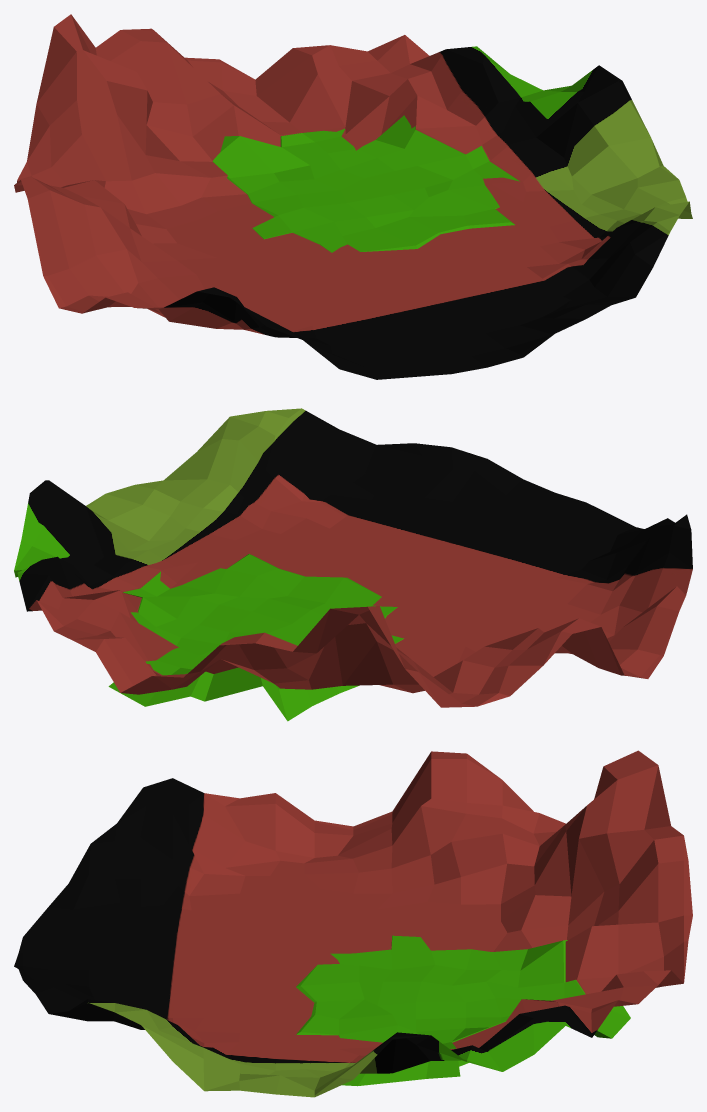
The model's file is Mars-One_map_terraforming_02_2.FBX.
The picture shows the model from 3 angles, top to bottom: view 1: azimuth 30°, elevation 25°; view 2: azimuth 150°, elevation 25°; view 3: azimuth 270°, elevation 25°; orthographic projection.
Visible parts, largest first — view 1: Circle001; view 2: Circle001; view 3: Circle001.
Boxes of the visible parts, x1=… form: Circle001: x1=14, y1=14, x2=692, y2=379; Circle001: x1=14, y1=408, x2=692, y2=721; Circle001: x1=14, y1=750, x2=692, y2=1097.
Size of the model in its own units: 413 by 107 by 414.
Materials: 1 (1 with a texture image).
